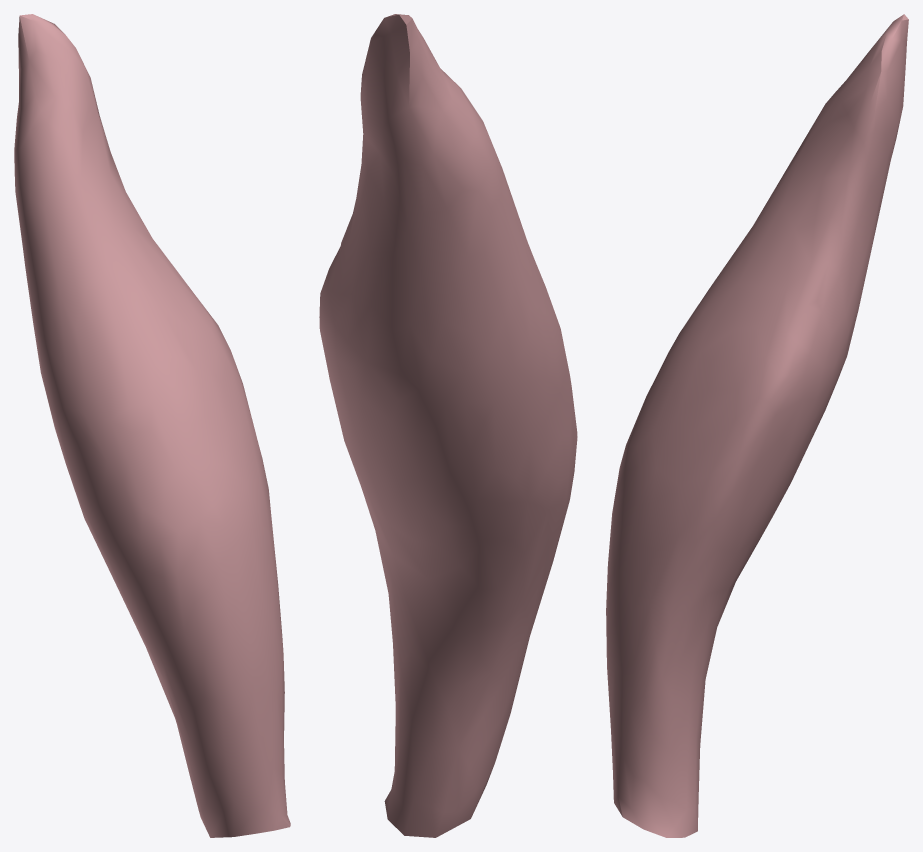
The model's file is fma46189_mm1945.glb.
The picture shows the model from 3 angles, left to right: view 1: azimuth 30°, elevation 25°; view 2: azimuth 150°, elevation 25°; view 3: azimuth 270°, elevation 25°; orthographic projection. The views are drawn at different scales.
Visible parts, largest first — view 1: FMA46189_MM1945; view 2: FMA46189_MM1945; view 3: FMA46189_MM1945.
Part boxes in pixels (bbox=[...]): FMA46189_MM1945: bbox=[14, 14, 290, 837]; FMA46189_MM1945: bbox=[319, 14, 577, 837]; FMA46189_MM1945: bbox=[606, 14, 908, 837].
Size of the model in its own units: 0.0109 by 0.0427 by 0.0153.
